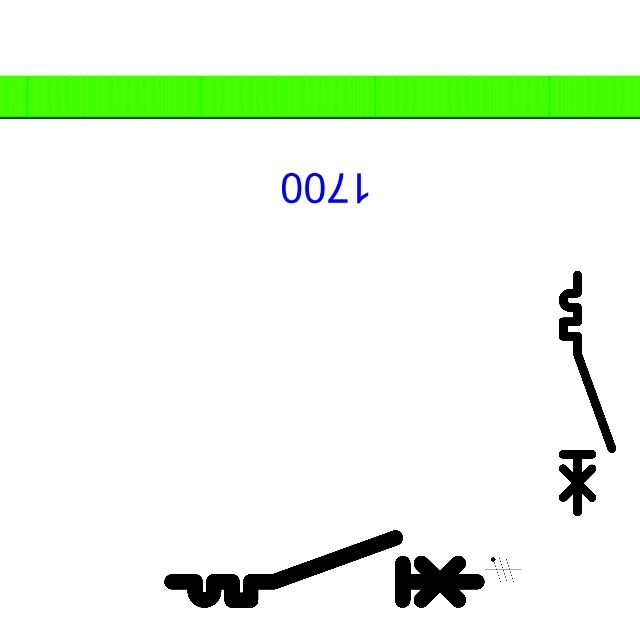interruptor_termomagnetico: (164, 530, 484, 608), (557, 269, 618, 518)
